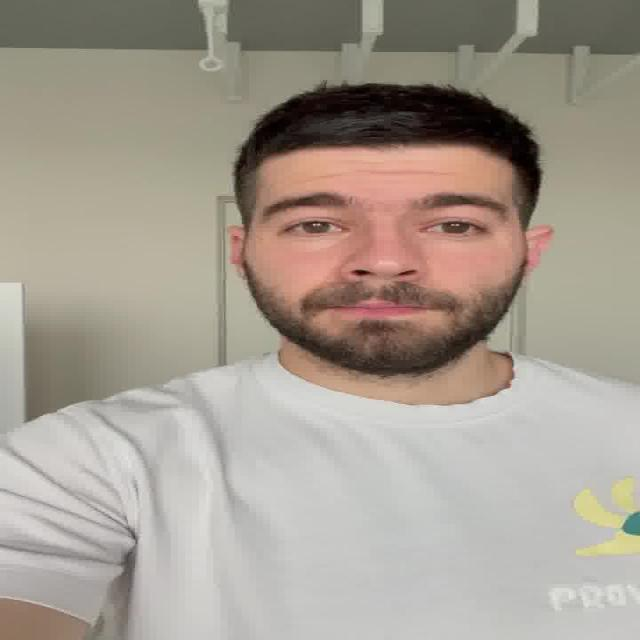earlobe: (521, 226, 554, 279), (226, 225, 249, 280)
